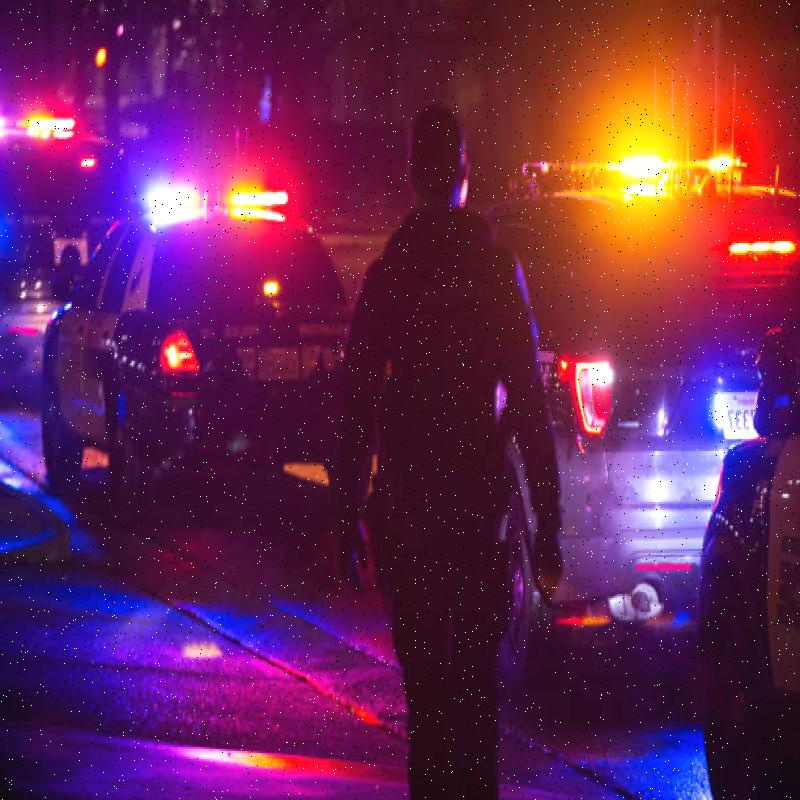AmbulanceSiren: (515, 118, 770, 206), (136, 172, 306, 240)
